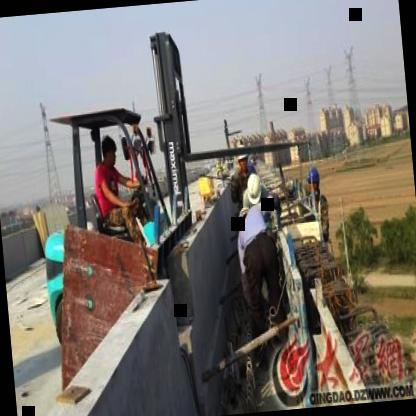head: (97, 133, 120, 168)
helmet: (244, 170, 266, 208), (233, 141, 253, 173), (305, 166, 323, 198)
